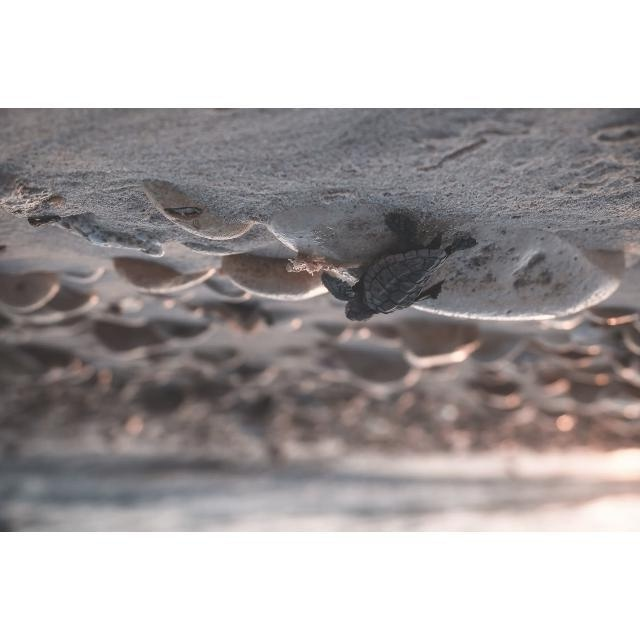turtle: (319, 212, 480, 324)
